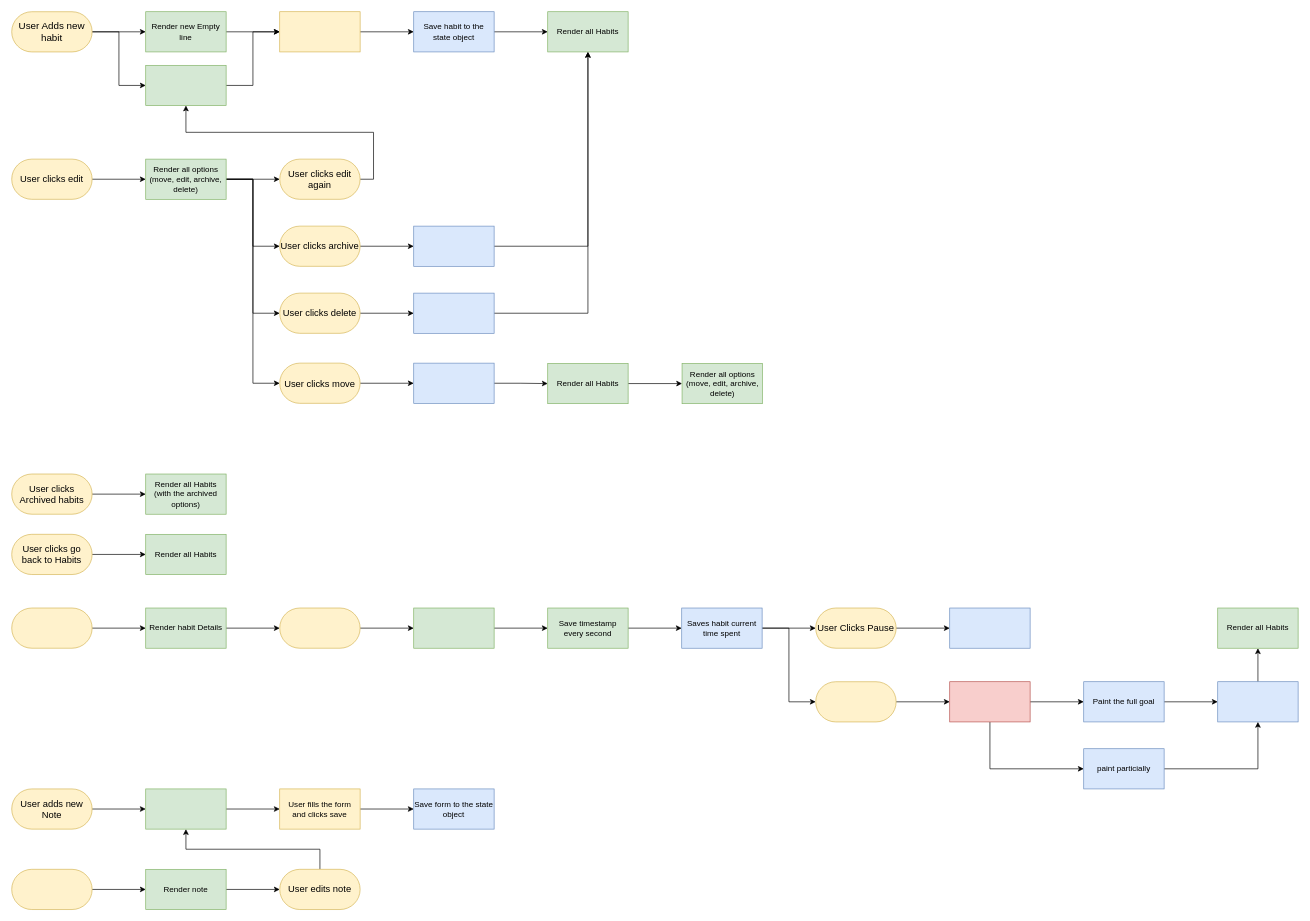
This 1310x921 diagram has some shape labels left out. The shapes that lost their labels are listed below. From the top down, each one's centre as x and y in pixels, then its label:
At pixel 319 31: "User fills the form".
At pixel 185 85: "Render form".
At pixel 453 245: "Save habit to the archived state object".
At pixel 453 312: "Remove habit from state".
At pixel 453 382: "Reorder state array".
At pixel 51 627: "User hovers habit".
At pixel 319 627: "User Clicks Start".
At pixel 453 627: "Calculate time spent".
At pixel 989 627: "Pause counter".
At pixel 855 701: "User Clicks Finish".
At pixel 989 701: "If time spent is greater then the goal".
At pixel 1257 701: "Reset counter".
At pixel 185 808: "Render note form".
At pixel 51 889: "User Clicks show note".
